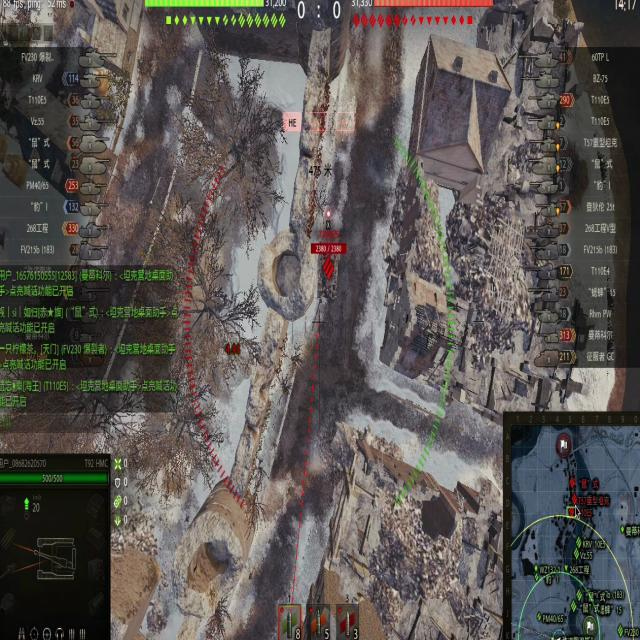tank: (310, 240, 346, 304)
